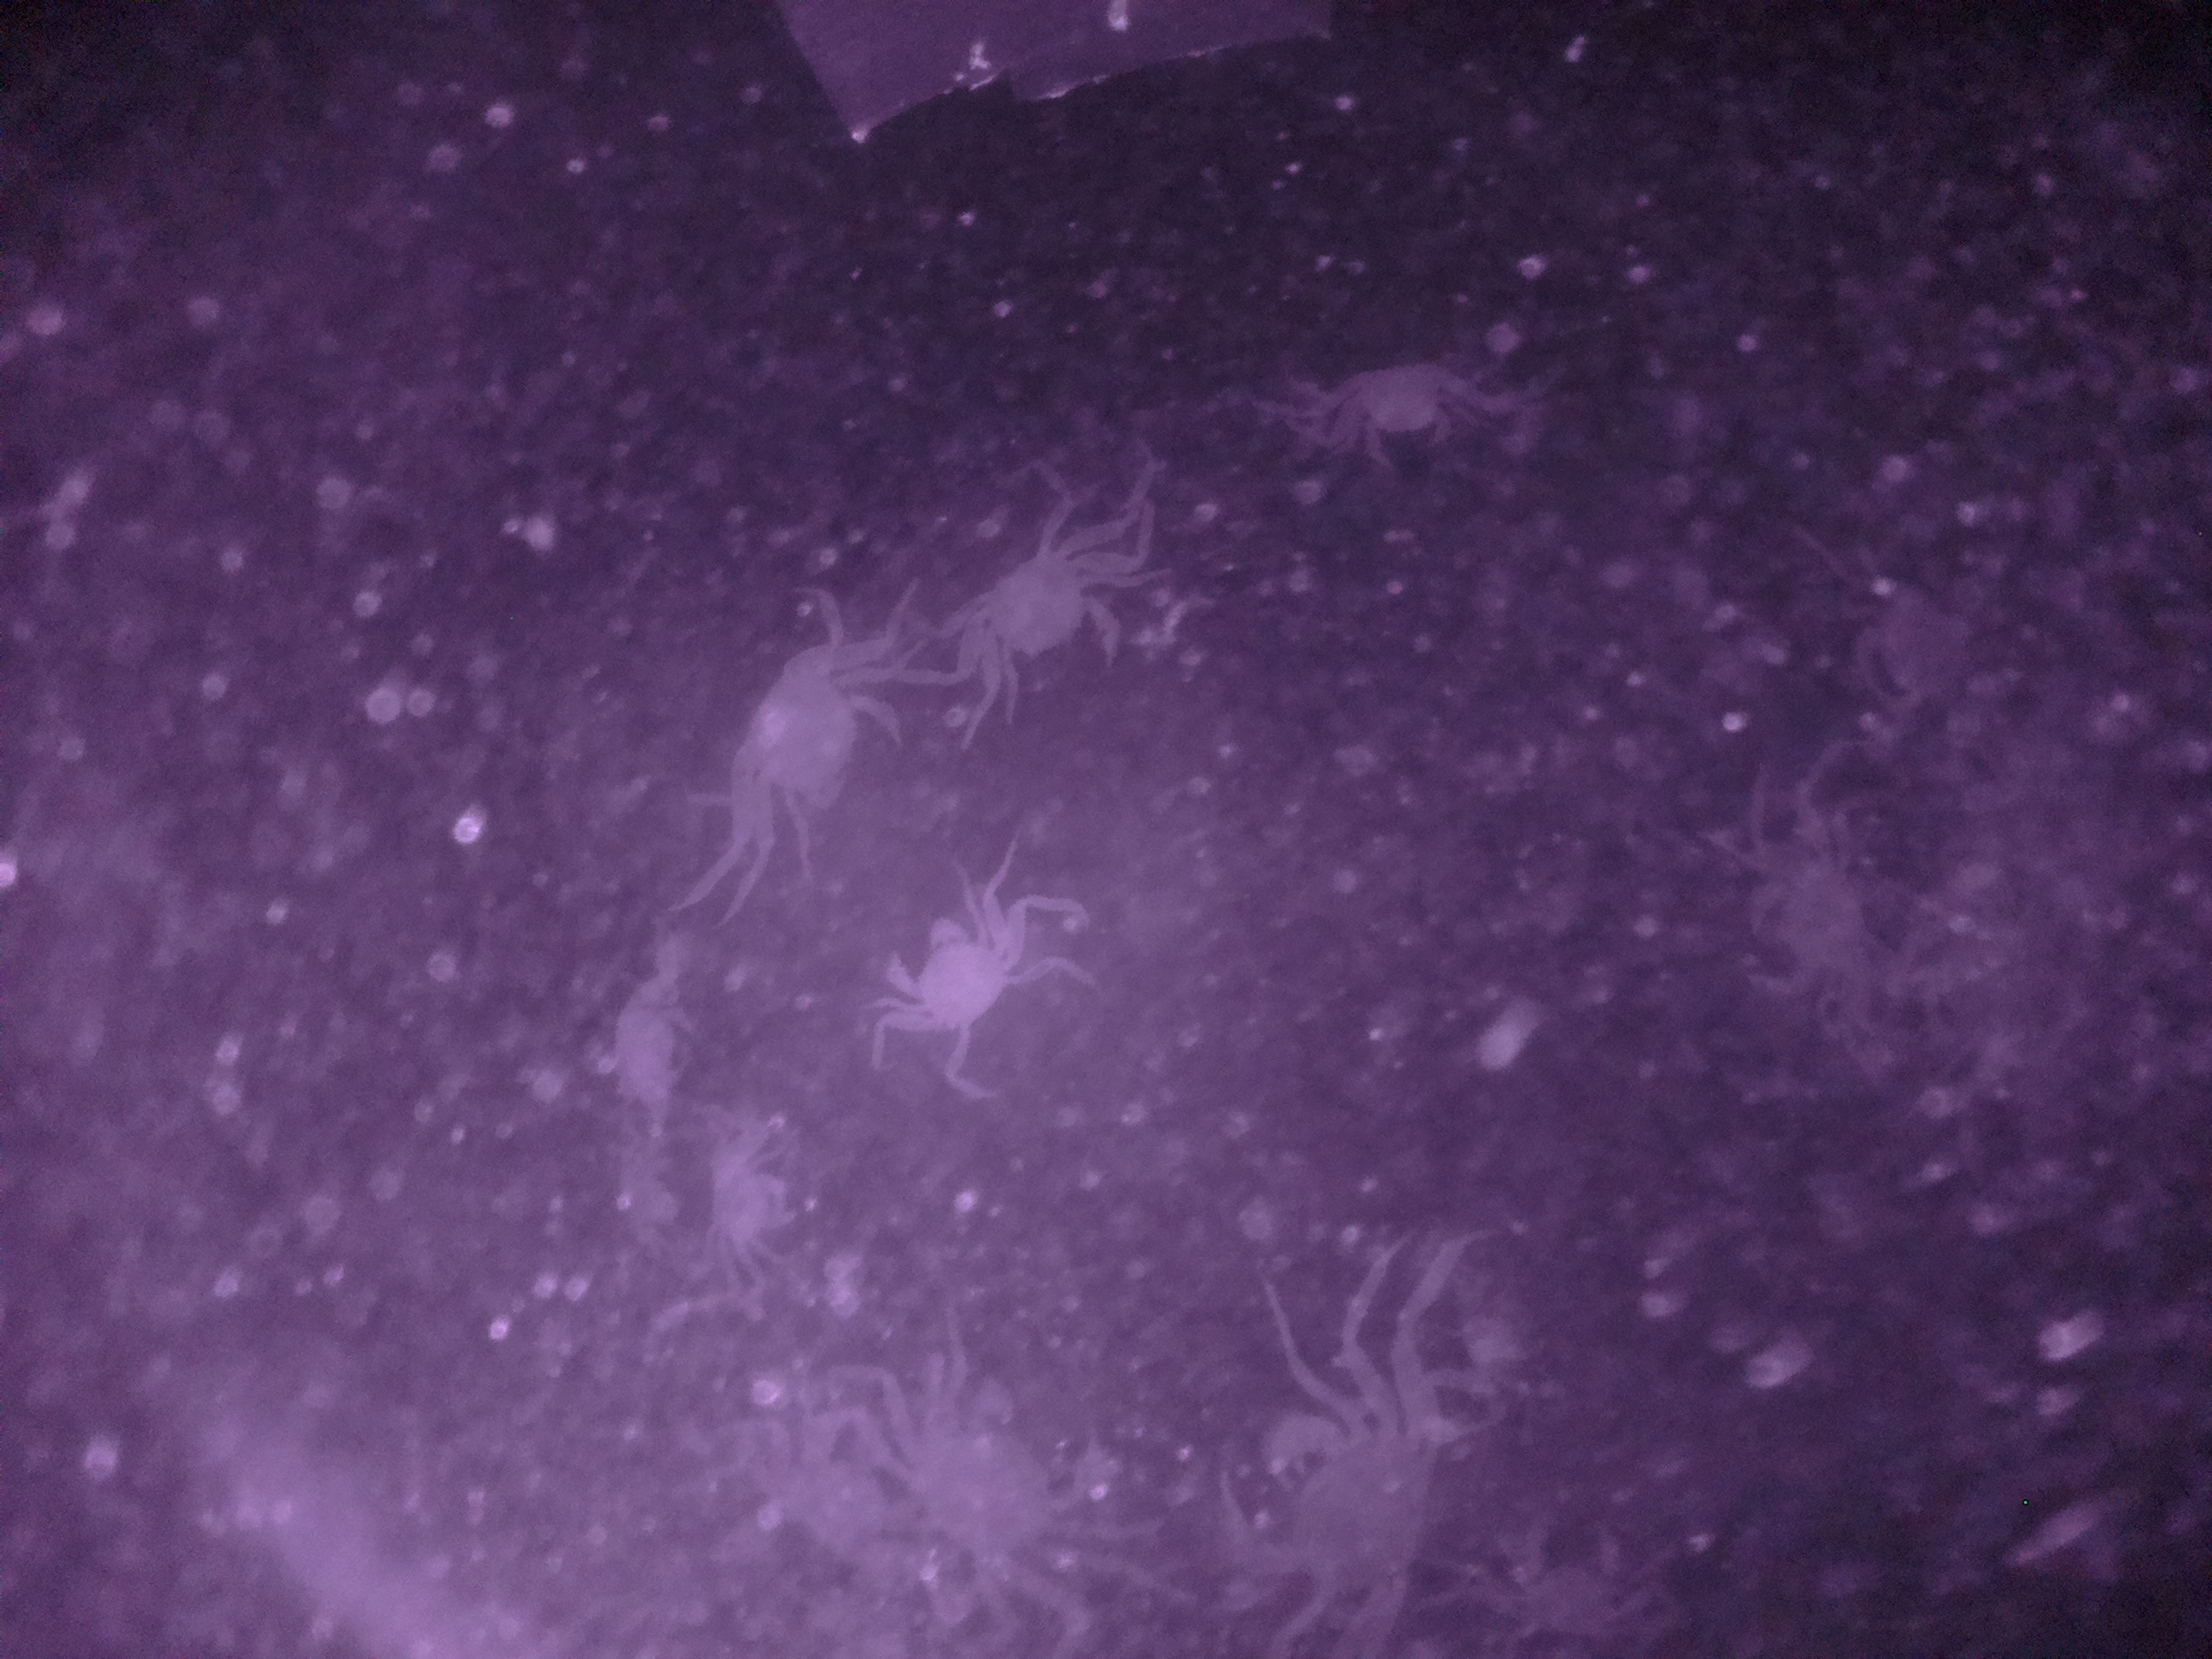Crab: (944, 514, 1132, 716), (711, 633, 897, 831), (869, 884, 1035, 1056)
